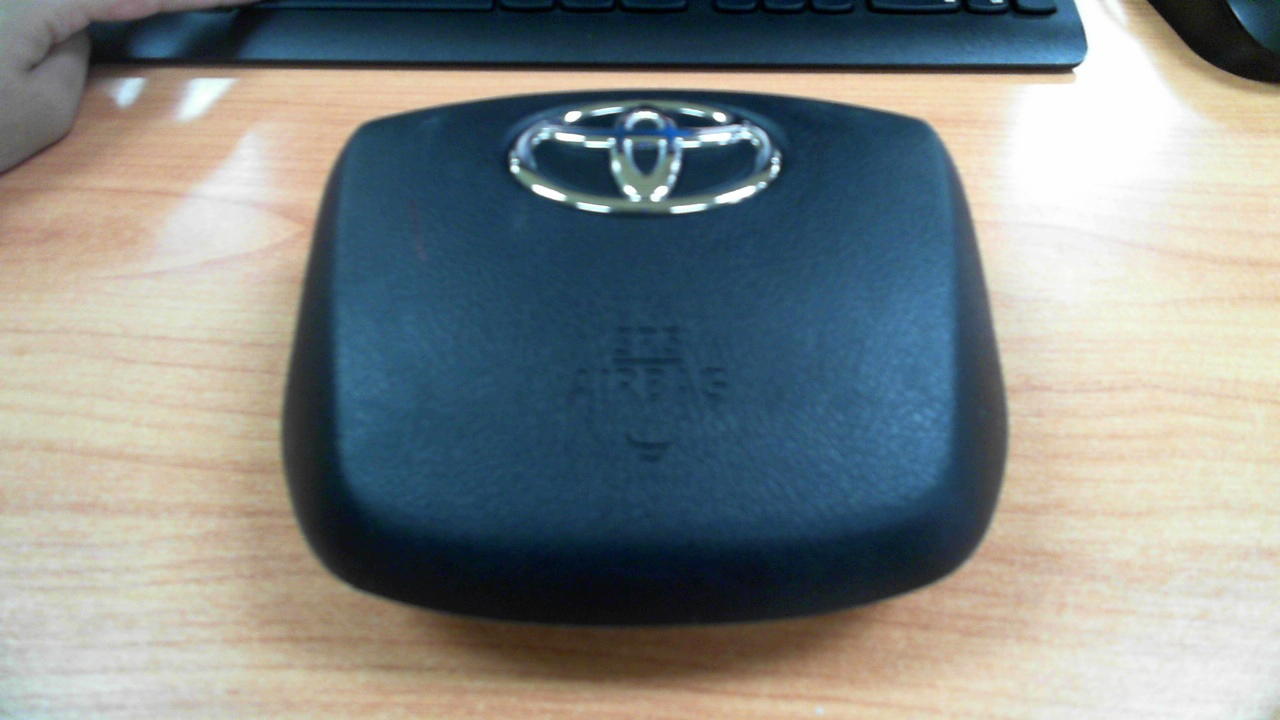Airbag: (275, 86, 1003, 626)
Toyota: (509, 99, 781, 214)
